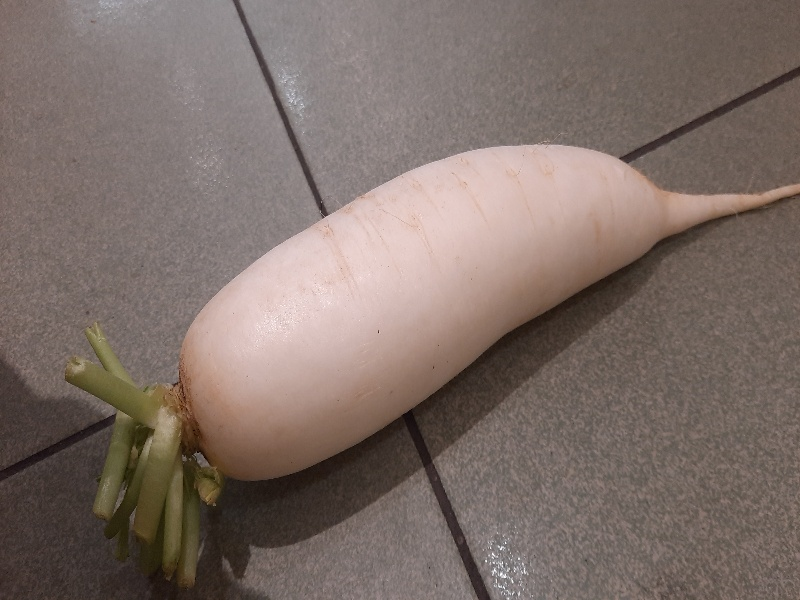vege: (75, 137, 732, 594)
